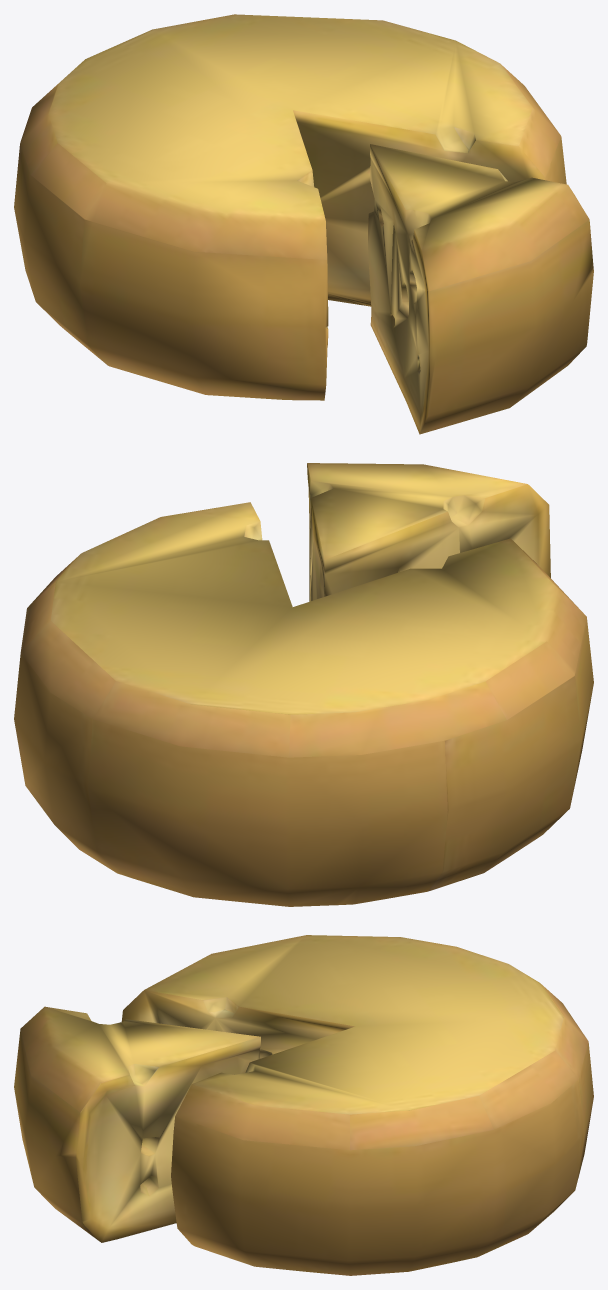
The model's file is g_nainao.glb.
3 views of the same model, one above another, from view 1: azimuth 30°, elevation 25°; view 2: azimuth 150°, elevation 25°; view 3: azimuth 270°, elevation 25° (orthographic). The views are drawn at different scales.
Parts seen in each view (by area): view 1: node_0; view 2: node_0; view 3: node_0.
Boxes of the visible parts, x1=… form: node_0: x1=14, y1=14, x2=593, y2=434; node_0: x1=14, y1=463, x2=593, y2=906; node_0: x1=14, y1=935, x2=593, y2=1275.
Bounding box in the file's own units: 0.9895 × 0.3663 × 1.18.
1 material, 1 textured.
